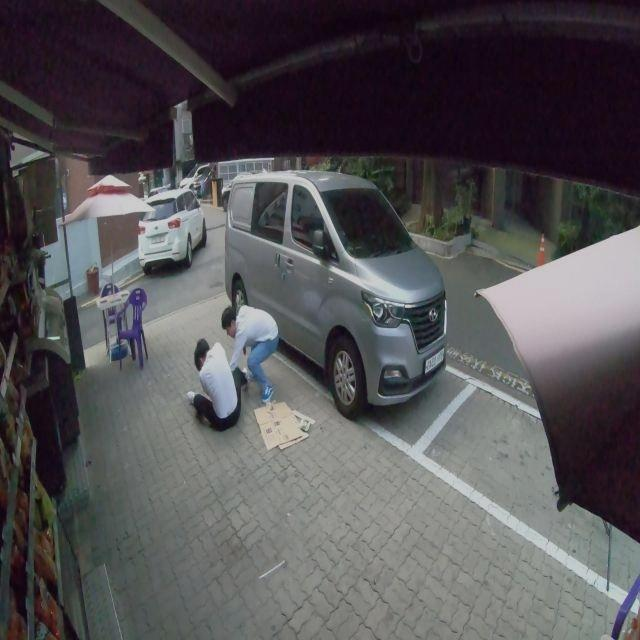fight: (180, 303, 289, 435)
